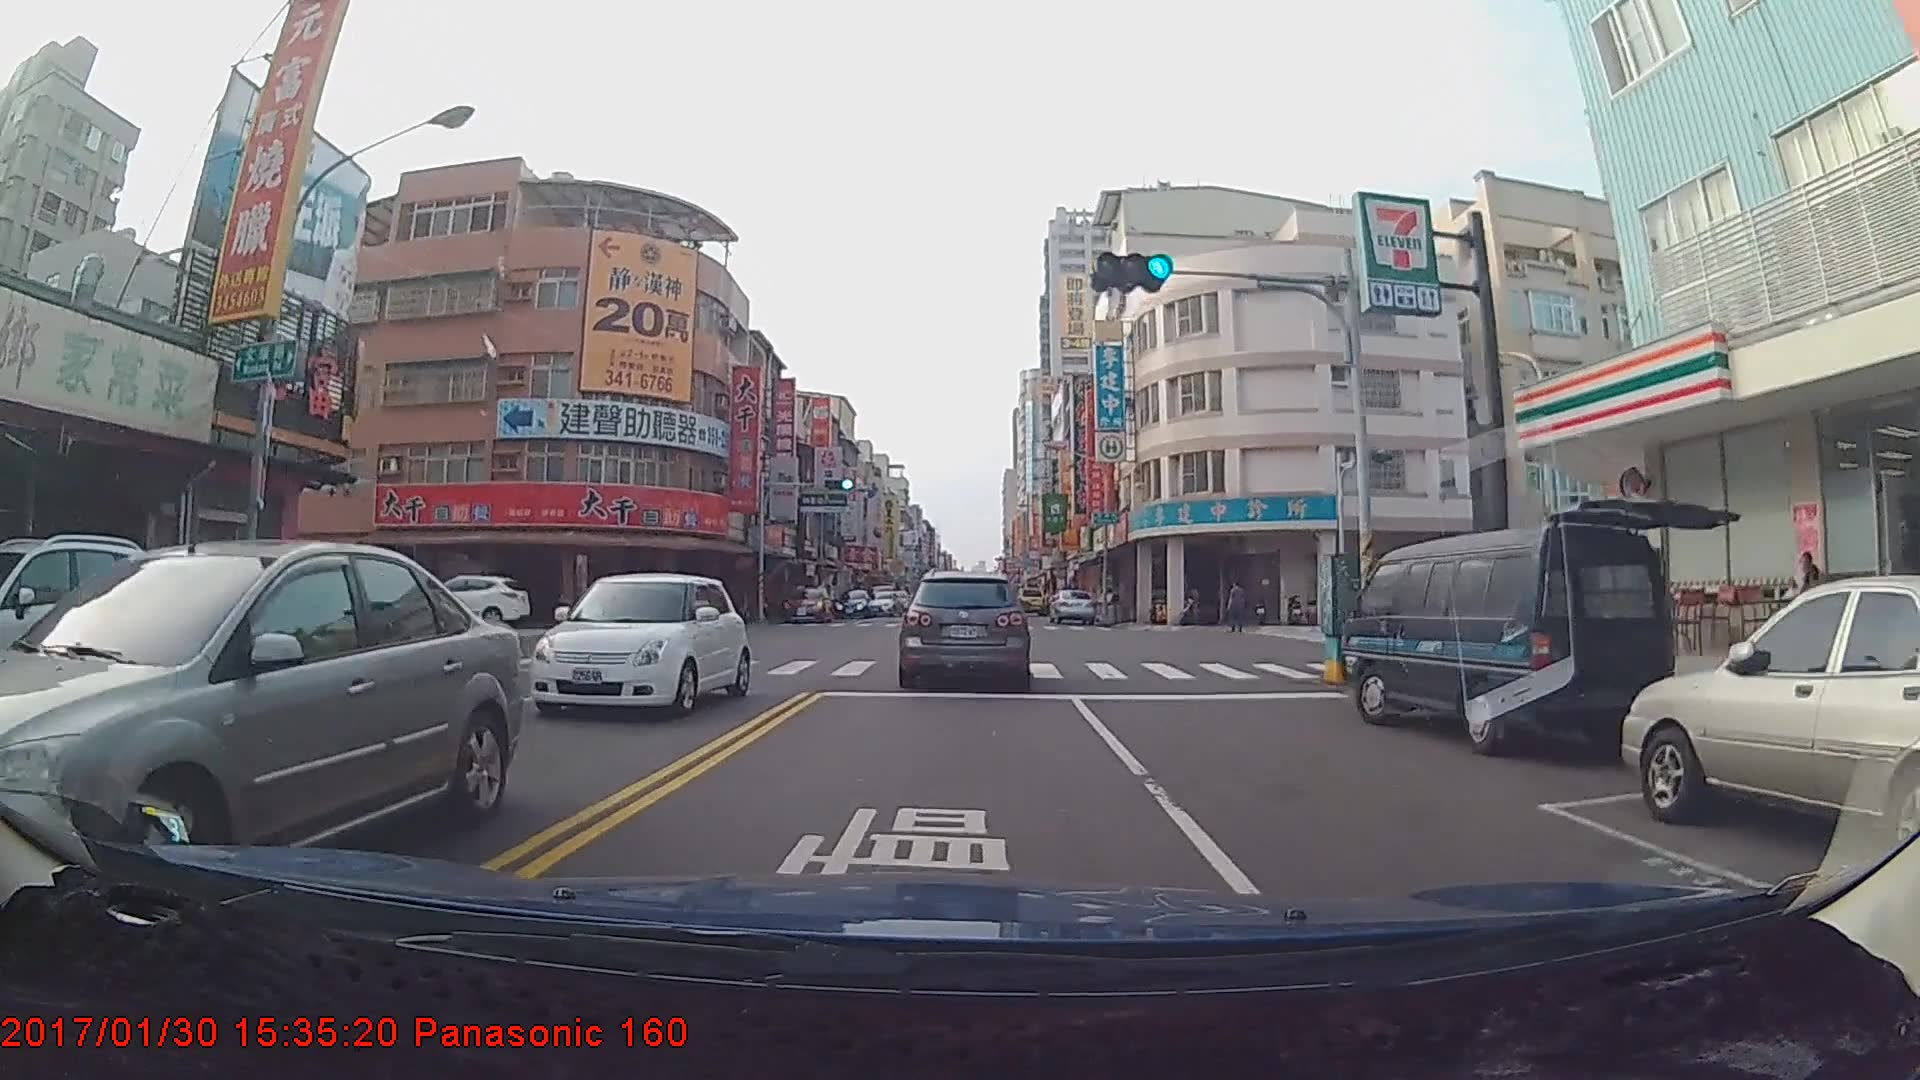pedestrian: (1228, 584, 1249, 638)
vehicle: (0, 535, 521, 896), (1623, 579, 1918, 886), (1332, 514, 1689, 762), (533, 569, 752, 723), (901, 569, 1028, 681), (401, 573, 527, 628), (1047, 587, 1097, 626), (781, 586, 830, 624), (834, 589, 872, 617), (1013, 584, 1046, 613), (865, 589, 901, 616)
